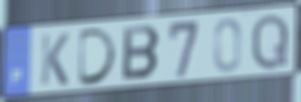0: (212, 16, 243, 74)
7: (167, 19, 202, 80)
B: (120, 24, 163, 83)
D: (76, 25, 120, 88)
K: (39, 31, 72, 87)
Q: (250, 12, 291, 73)
